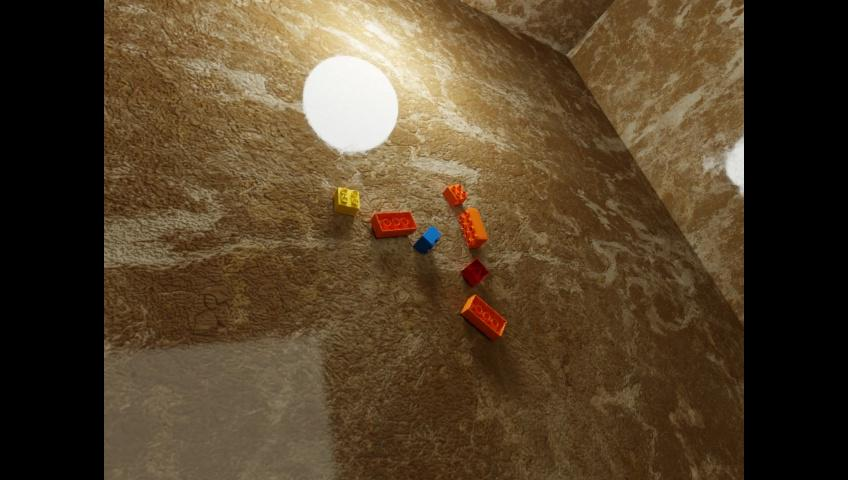2x2_blue: (413, 225, 439, 253)
2x2_orange: (442, 183, 467, 206)
2x2_red: (460, 257, 488, 286)
2x2_yellow: (334, 187, 358, 215)
4x2_orange: (461, 294, 505, 340), (370, 211, 416, 237), (458, 207, 487, 248)
